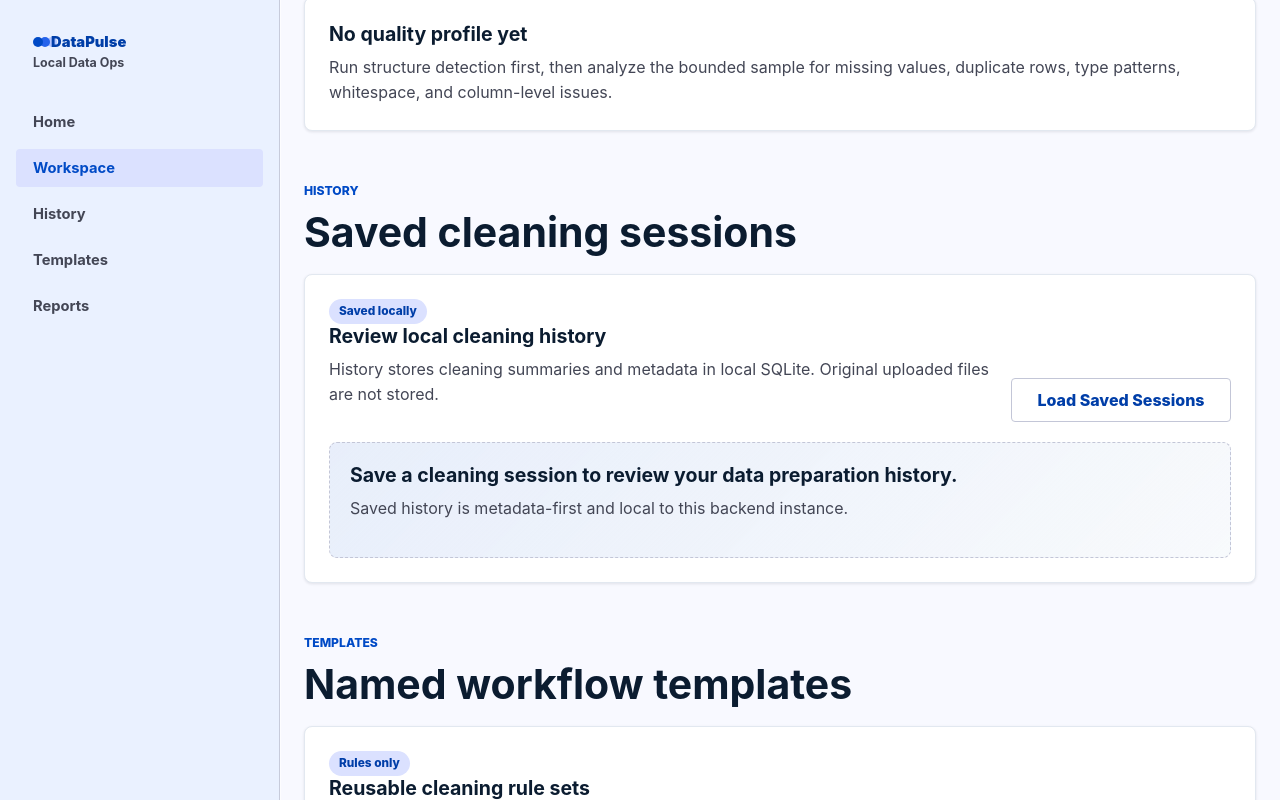
Scenario: App › renders saved history error state
(page scrolled)
What coordinates should you click on to do the following:
click the button "Load Saved Sessions"
I would click on:
 (1121, 400)
Its box is [1011, 378, 1231, 422].
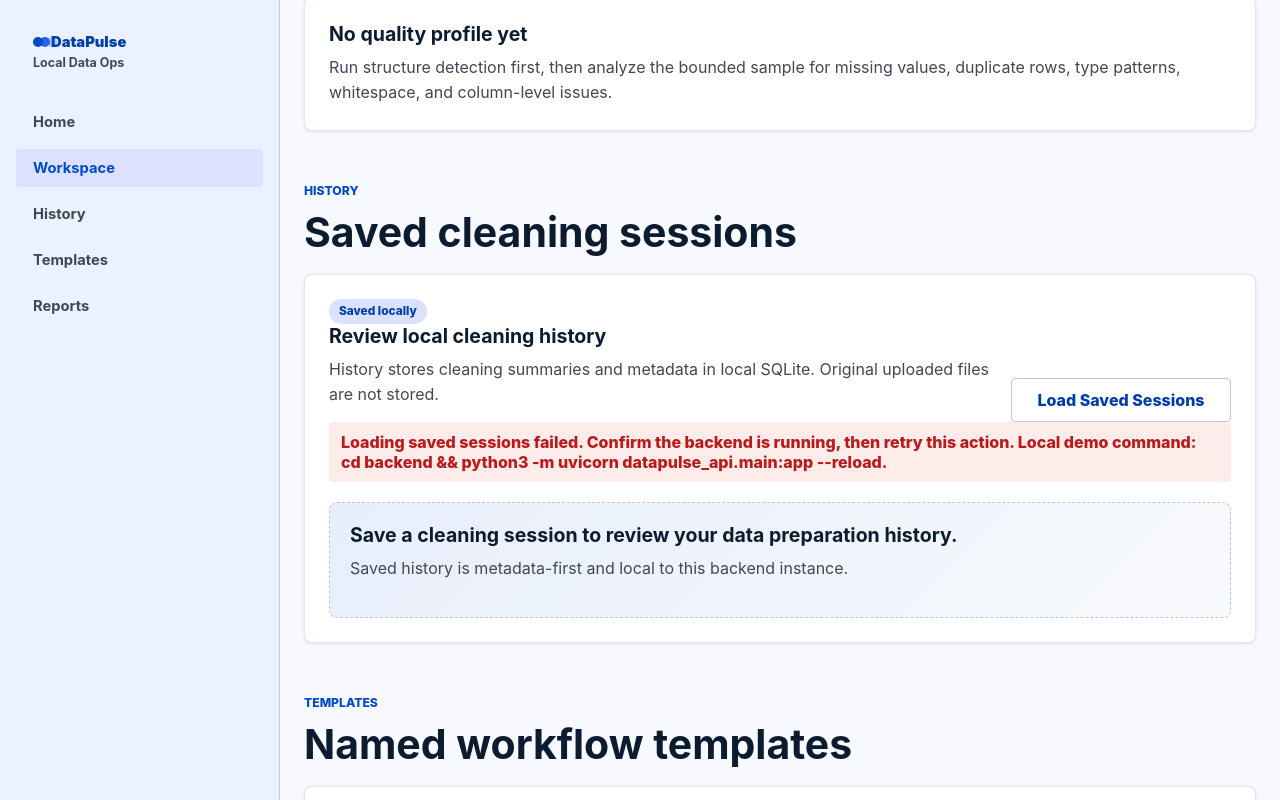
Now the text "Loading saved sessions failed" is shown, box [341, 432, 1196, 472]
